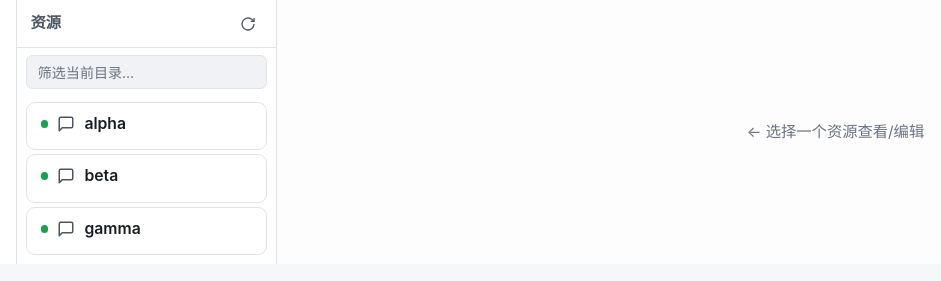
it: VdfsWorkbench 列表筛选 › 筛掉全部结果 ⇒ 空态说明是"没有匹配"并给出清除入口（而非「此目录为空」）
Type "zzz" into the search field with placeholder "筛选当前目录…".
click(146, 72); type("zzz")  # box left=26, top=55, right=267, bottom=89
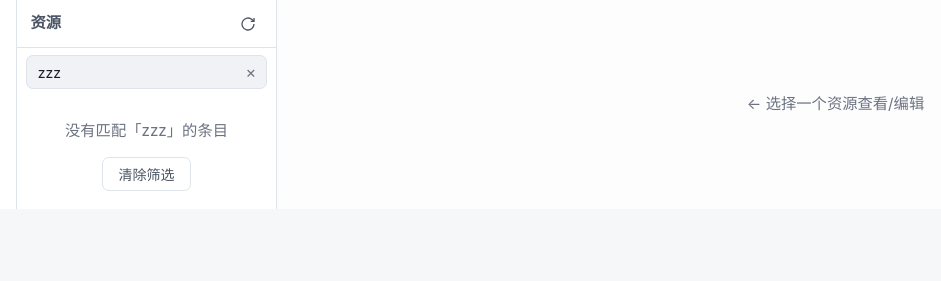
Expected: the element with class "empty-state" shows "没有匹配", left=65, top=121, right=228, bottom=140
Click the button with class "empty-action".
click(146, 174)  # box left=102, top=157, right=191, bottom=191
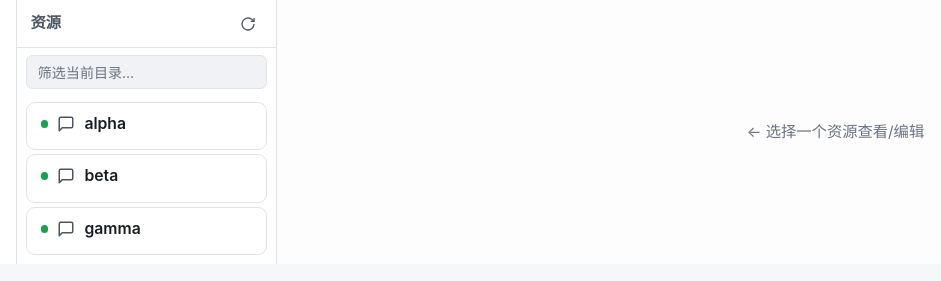
Expected: the number of options is 3, left=26, top=102, right=267, bottom=150; left=26, top=154, right=267, bottom=203; left=26, top=207, right=267, bottom=255
